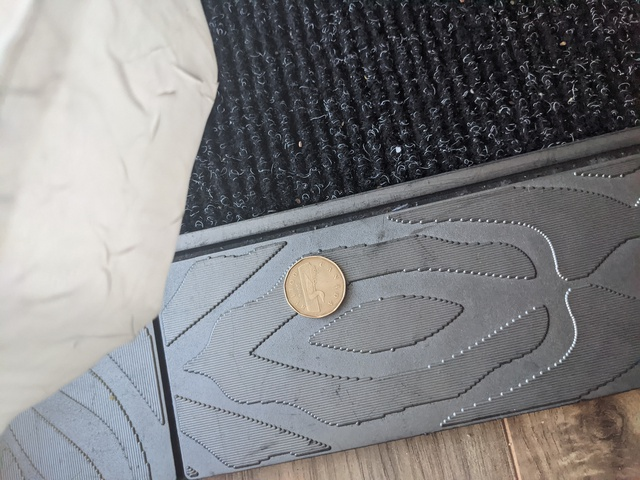loonie: (278, 247, 350, 313)
